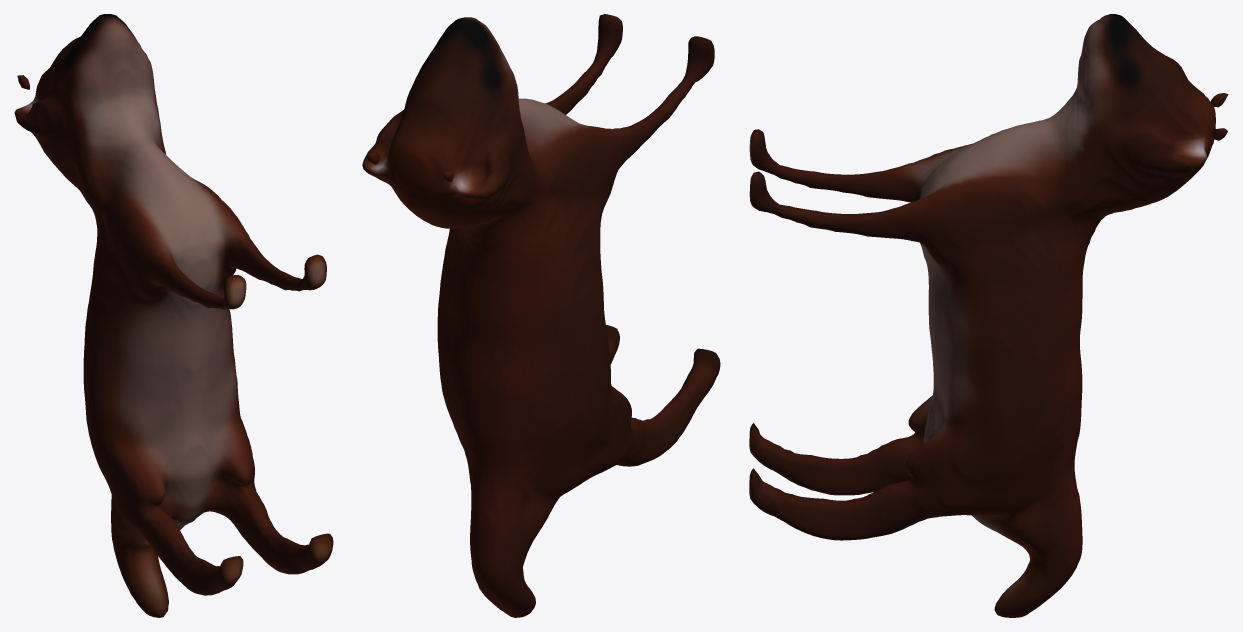
3 views of the same model, side by side, from view 1: azimuth 30°, elevation 25°; view 2: azimuth 150°, elevation 25°; view 3: azimuth 270°, elevation 25° (orthographic). The views are drawn at different scales.
Visible parts, largest first — view 1: plyFile; view 2: plyFile; view 3: plyFile.
Boxes of the visible parts, x1,y1,x2,y2 form: plyFile: (14,14,333,617); plyFile: (362,14,720,617); plyFile: (749,14,1228,617).
Size of the model in its own units: 51.47 by 198 by 144.
